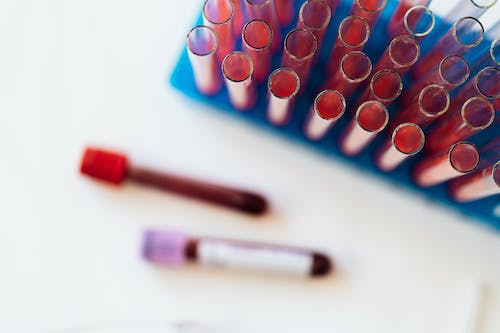blood: (125, 145, 270, 218), (186, 229, 333, 279), (408, 16, 484, 81), (425, 96, 495, 154), (437, 64, 500, 125), (402, 54, 471, 102), (410, 140, 480, 187), (362, 33, 421, 88), (390, 84, 451, 132), (339, 99, 390, 155), (349, 67, 404, 118), (373, 121, 426, 171), (327, 15, 371, 75), (186, 25, 223, 95), (296, 0, 332, 66), (279, 27, 319, 86), (446, 160, 500, 203), (323, 50, 373, 96), (302, 89, 346, 140), (244, 0, 284, 53), (201, 0, 234, 64), (241, 17, 273, 81), (265, 67, 300, 124), (221, 50, 254, 110), (386, 0, 434, 37), (348, 0, 388, 28), (215, 0, 243, 40), (274, 0, 293, 24)
